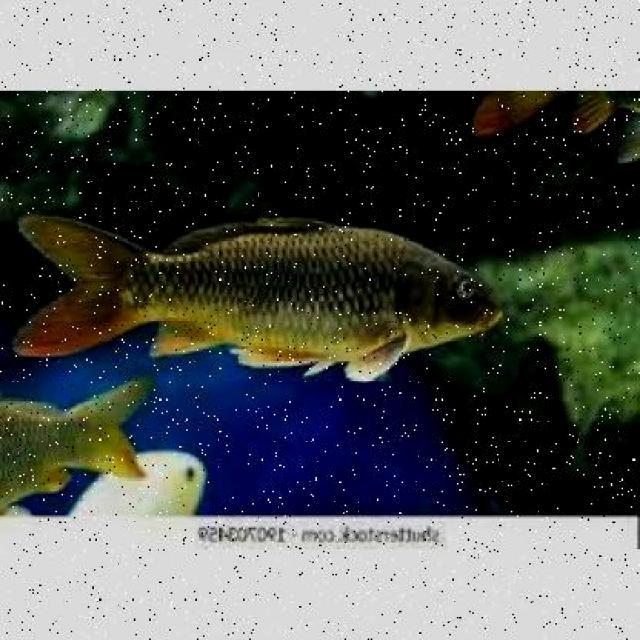ikan-mas: (12, 212, 506, 370)
